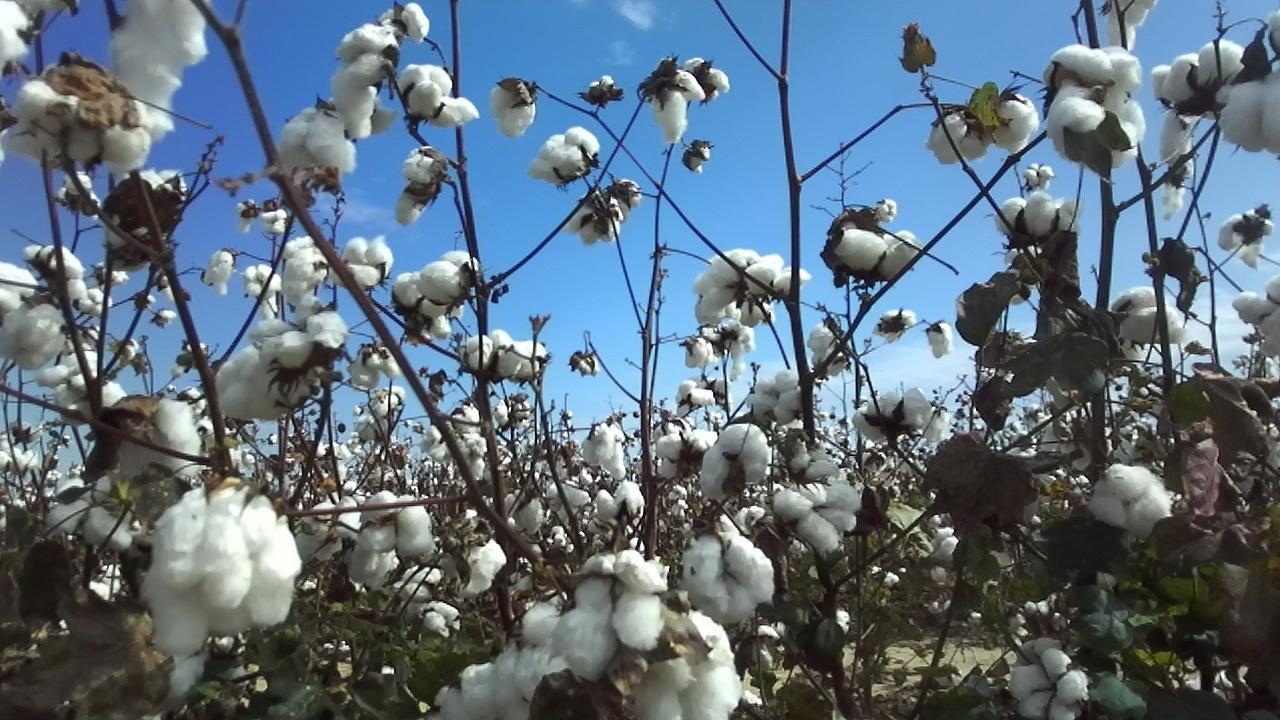cotton_ready: (144, 484, 307, 654), (1150, 35, 1247, 221), (3, 78, 175, 170), (552, 550, 669, 683), (1042, 46, 1150, 169), (631, 612, 745, 720), (433, 643, 589, 720), (109, 0, 213, 115), (684, 535, 777, 624), (113, 398, 202, 482), (773, 483, 864, 564), (104, 170, 187, 257), (1112, 287, 1190, 377), (337, 26, 396, 137), (217, 351, 309, 422), (1086, 466, 1177, 535), (48, 477, 135, 549), (1009, 650, 1091, 720), (35, 352, 129, 413), (853, 387, 945, 449), (357, 489, 435, 562), (251, 298, 346, 357), (275, 106, 359, 172), (112, 655, 205, 714), (700, 422, 770, 500), (741, 254, 815, 327), (829, 219, 922, 277), (1219, 72, 1280, 157), (397, 64, 479, 127), (392, 271, 465, 339), (695, 245, 760, 317), (0, 303, 69, 370), (994, 192, 1084, 239), (530, 125, 599, 184), (654, 67, 707, 143), (24, 246, 90, 304), (1232, 277, 1280, 355), (985, 92, 1040, 157), (397, 146, 441, 227), (332, 237, 397, 290), (746, 369, 807, 424), (415, 250, 475, 305), (1217, 209, 1272, 269), (281, 234, 332, 298), (929, 111, 988, 165), (565, 194, 624, 247), (457, 539, 508, 597), (655, 430, 716, 477), (589, 481, 645, 532), (491, 80, 537, 142), (1105, 0, 1158, 51), (0, 1, 34, 77), (582, 422, 628, 478), (467, 327, 519, 375), (499, 337, 550, 383), (0, 262, 40, 314), (381, 2, 432, 42), (688, 60, 734, 102), (809, 326, 845, 377)
